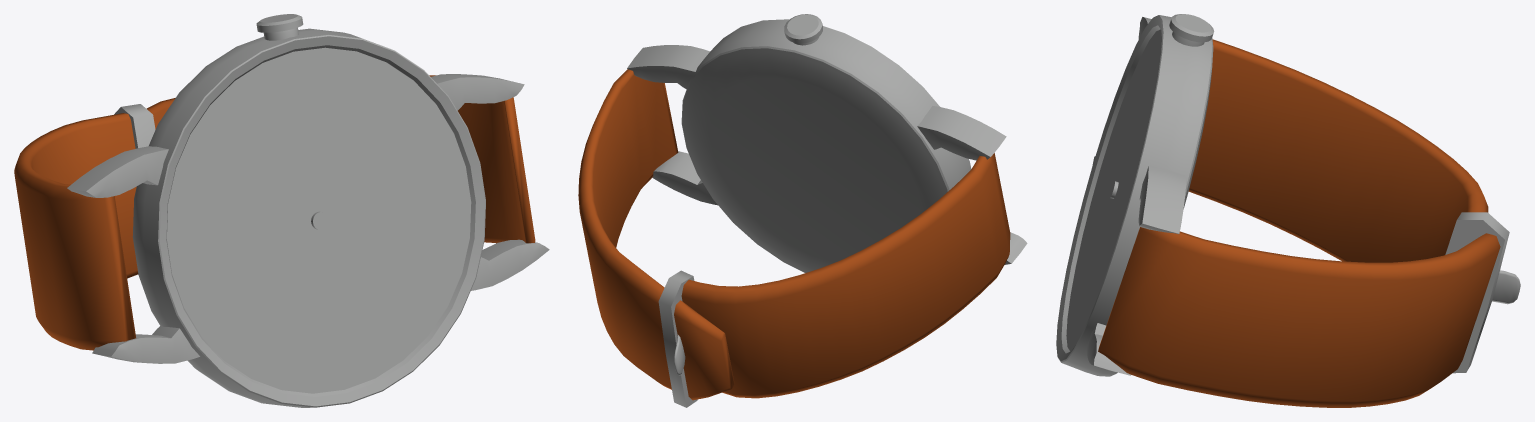
The model's file is SM_AnalogWatch.fbx.
3 renders of one model, left to right at view 1: azimuth 30°, elevation 25°; view 2: azimuth 150°, elevation 25°; view 3: azimuth 270°, elevation 25°, orthographic. The views are drawn at different scales.
Parts seen in each view (by area): view 1: Cube.002; view 2: Cube.002; view 3: Cube.002.
Boxes of the visible parts, bbox=[...] form: Cube.002: bbox=[14, 14, 549, 407]; Cube.002: bbox=[578, 14, 1027, 407]; Cube.002: bbox=[1056, 14, 1520, 407].
Bounding box in the file's own units: 31 × 23.95 × 28.85.
